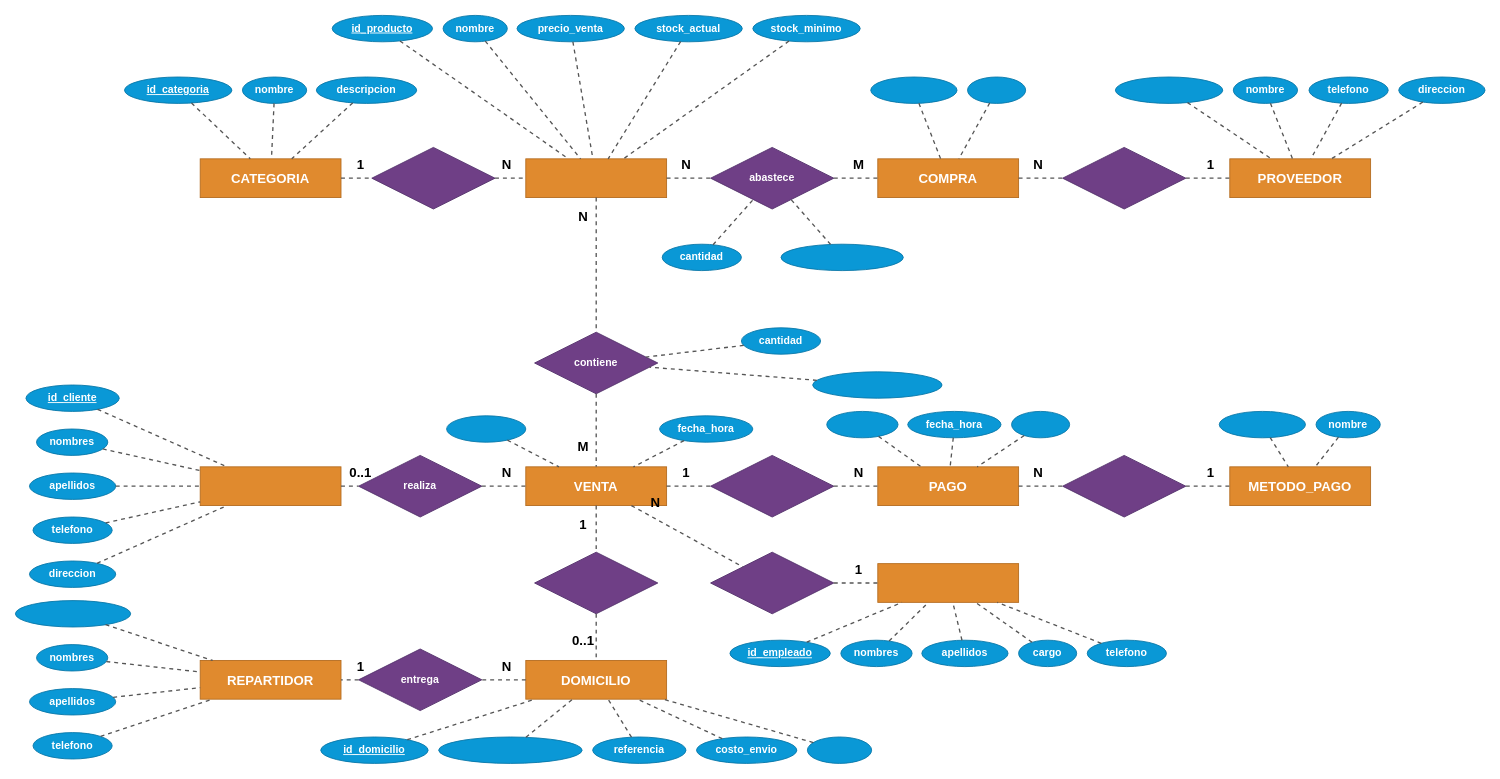
The diagram is 1500 pixels wide and 779 high, and some of its shapes have lost their labels. The shapes that lost their labels are listed below. From the top down, each one's centre as x and y in pixels, then its label:
At pixel 913 89: "id_compra".
At pixel 996 89: "fecha".
At pixel 1169 89: "id_proveedor".
At pixel 433 178: "pertenece".
At pixel 596 178: "PRODUCTO".
At pixel 1124 178: "suministra".
At pixel 841 257: "costo_unitario".
At pixel 877 384: "precio_unitario".
At pixel 486 428: "id_venta".
At pixel 862 424: "id_pago".
At pixel 1040 424: "monto".
At pixel 1261 424: "id_metodo".
At pixel 270 486: "CLIENTE".
At pixel 772 486: "recibe".
At pixel 1124 486: "usa".
At pixel 596 582: "genera".
At pixel 772 582: "atiende".
At pixel 948 582: "EMPLEADO".
At pixel 73 613: "id_repartidor".
At pixel 510 749: "direccion_entrega".
At pixel 839 749: "estado".
